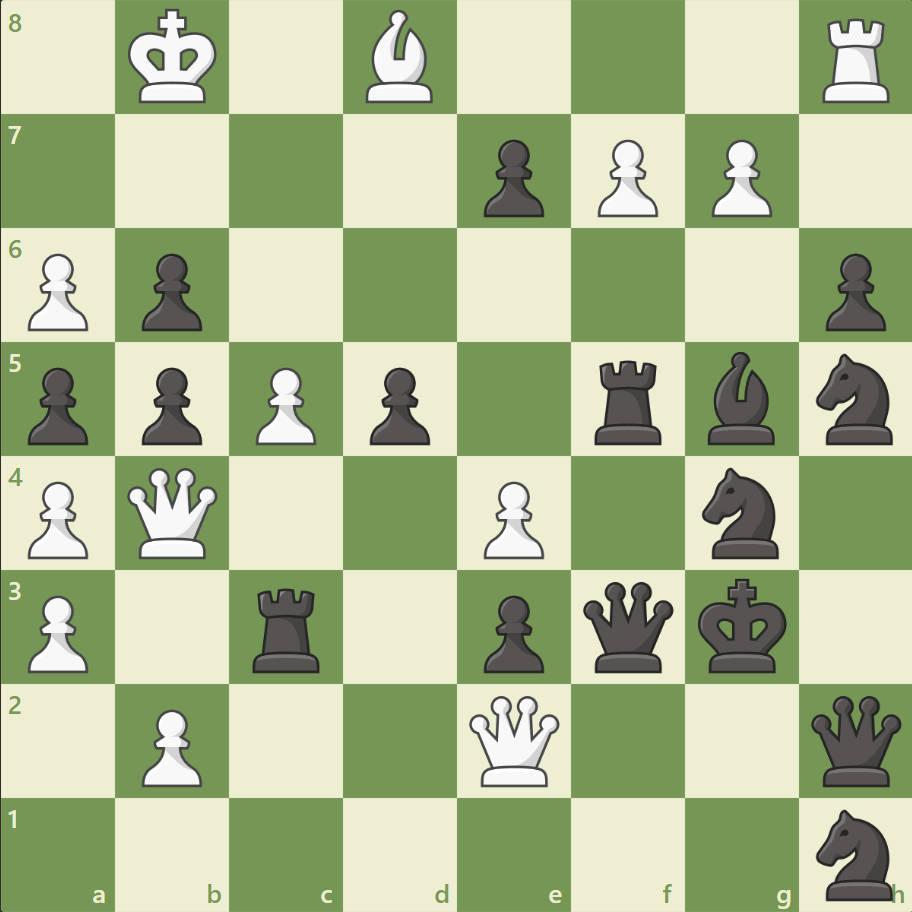B: (358, 6, 442, 109)
K: (124, 4, 224, 112)
P: (701, 132, 776, 223), (20, 246, 95, 337), (247, 359, 322, 450), (20, 473, 95, 564), (474, 473, 549, 564), (20, 586, 95, 677), (133, 700, 208, 791), (588, 132, 662, 223)
Q: (124, 463, 223, 562), (464, 690, 563, 789)
R: (814, 12, 897, 109)
b: (698, 347, 782, 449)
k: (692, 571, 792, 679)
n: (692, 461, 789, 564), (806, 348, 903, 450), (806, 802, 903, 904)
p: (474, 132, 549, 223), (133, 246, 208, 337), (20, 359, 95, 450), (133, 359, 208, 450), (474, 586, 549, 677), (815, 246, 889, 337), (361, 359, 435, 450)
q: (578, 576, 677, 676), (805, 690, 904, 789)
r: (587, 352, 670, 449), (246, 579, 329, 676)
